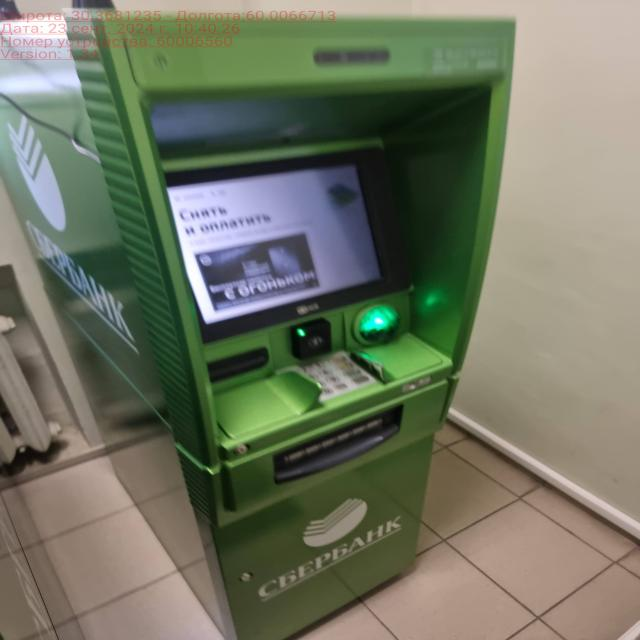bank: (1, 16, 517, 640)
